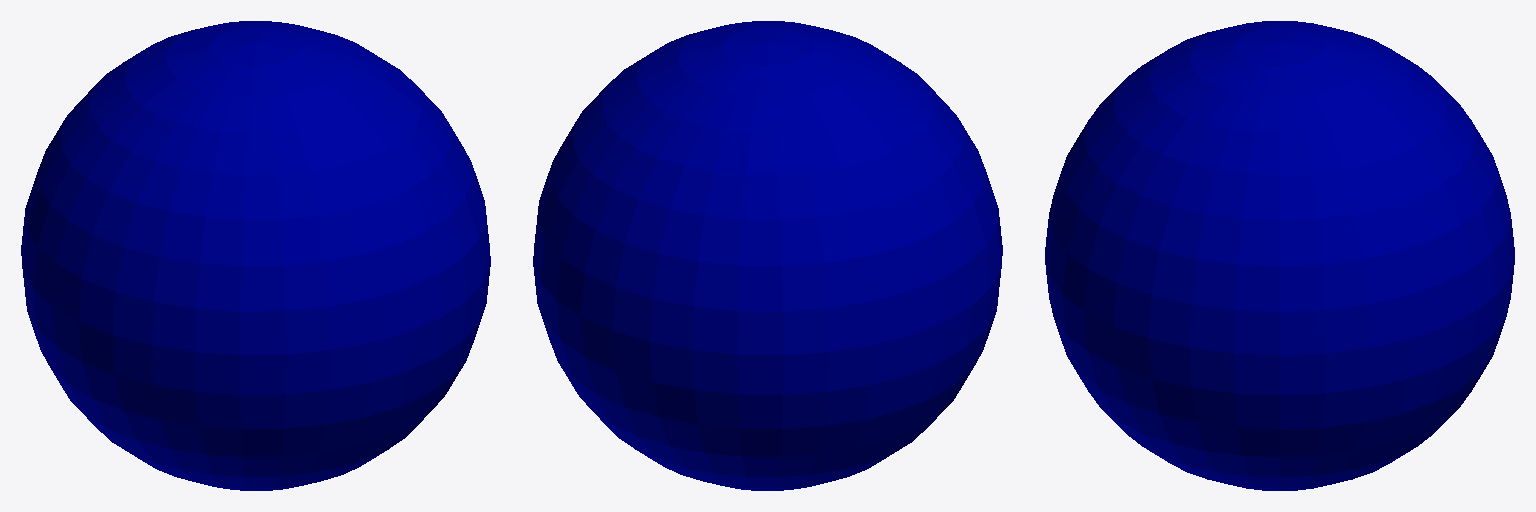
File: ballb.obj
3 views of the same model, side by side, from view 1: azimuth 30°, elevation 25°; view 2: azimuth 150°, elevation 25°; view 3: azimuth 270°, elevation 25° (orthographic).
Visible parts, largest first — view 1: Sphere; view 2: Sphere; view 3: Sphere.
Boxes of the visible parts, <box> form: Sphere: <box>21,21,490,490</box>; Sphere: <box>533,21,1002,490</box>; Sphere: <box>1045,21,1514,490</box>.
Size of the model in its own units: 1 by 1 by 1.